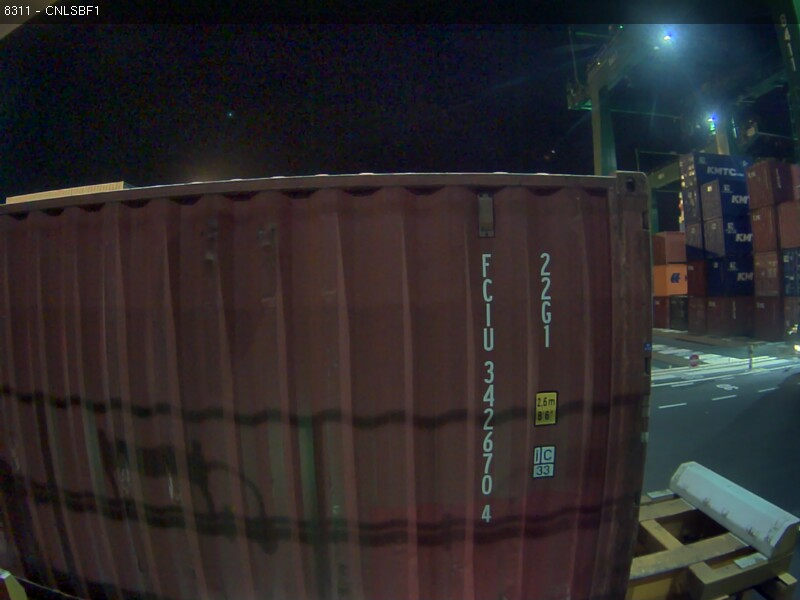container_no_door: (92, 162, 661, 582)
